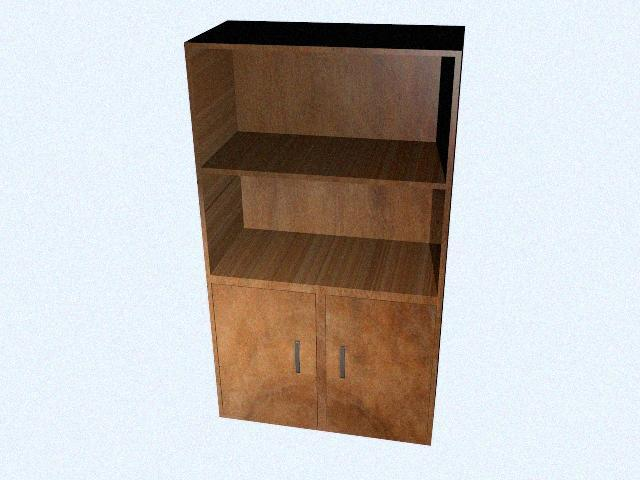cabinet_door: (327, 300, 432, 435), (218, 288, 316, 420)
handle: (287, 333, 306, 379), (332, 343, 352, 383)
